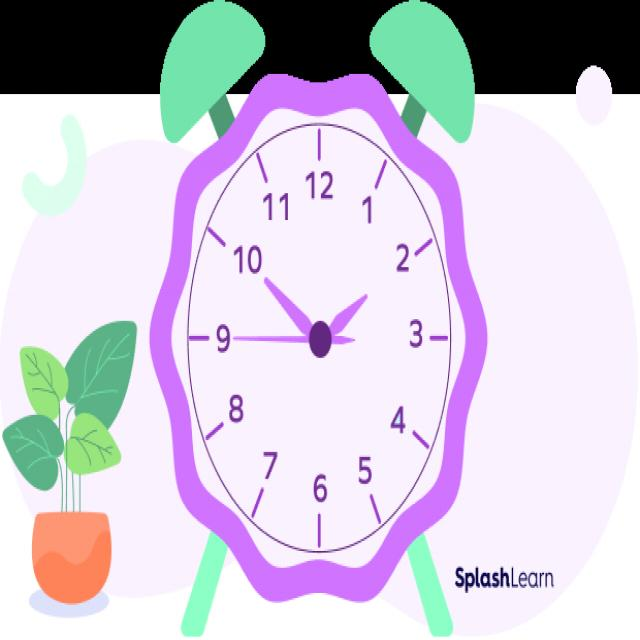clock: (142, 4, 507, 640)
